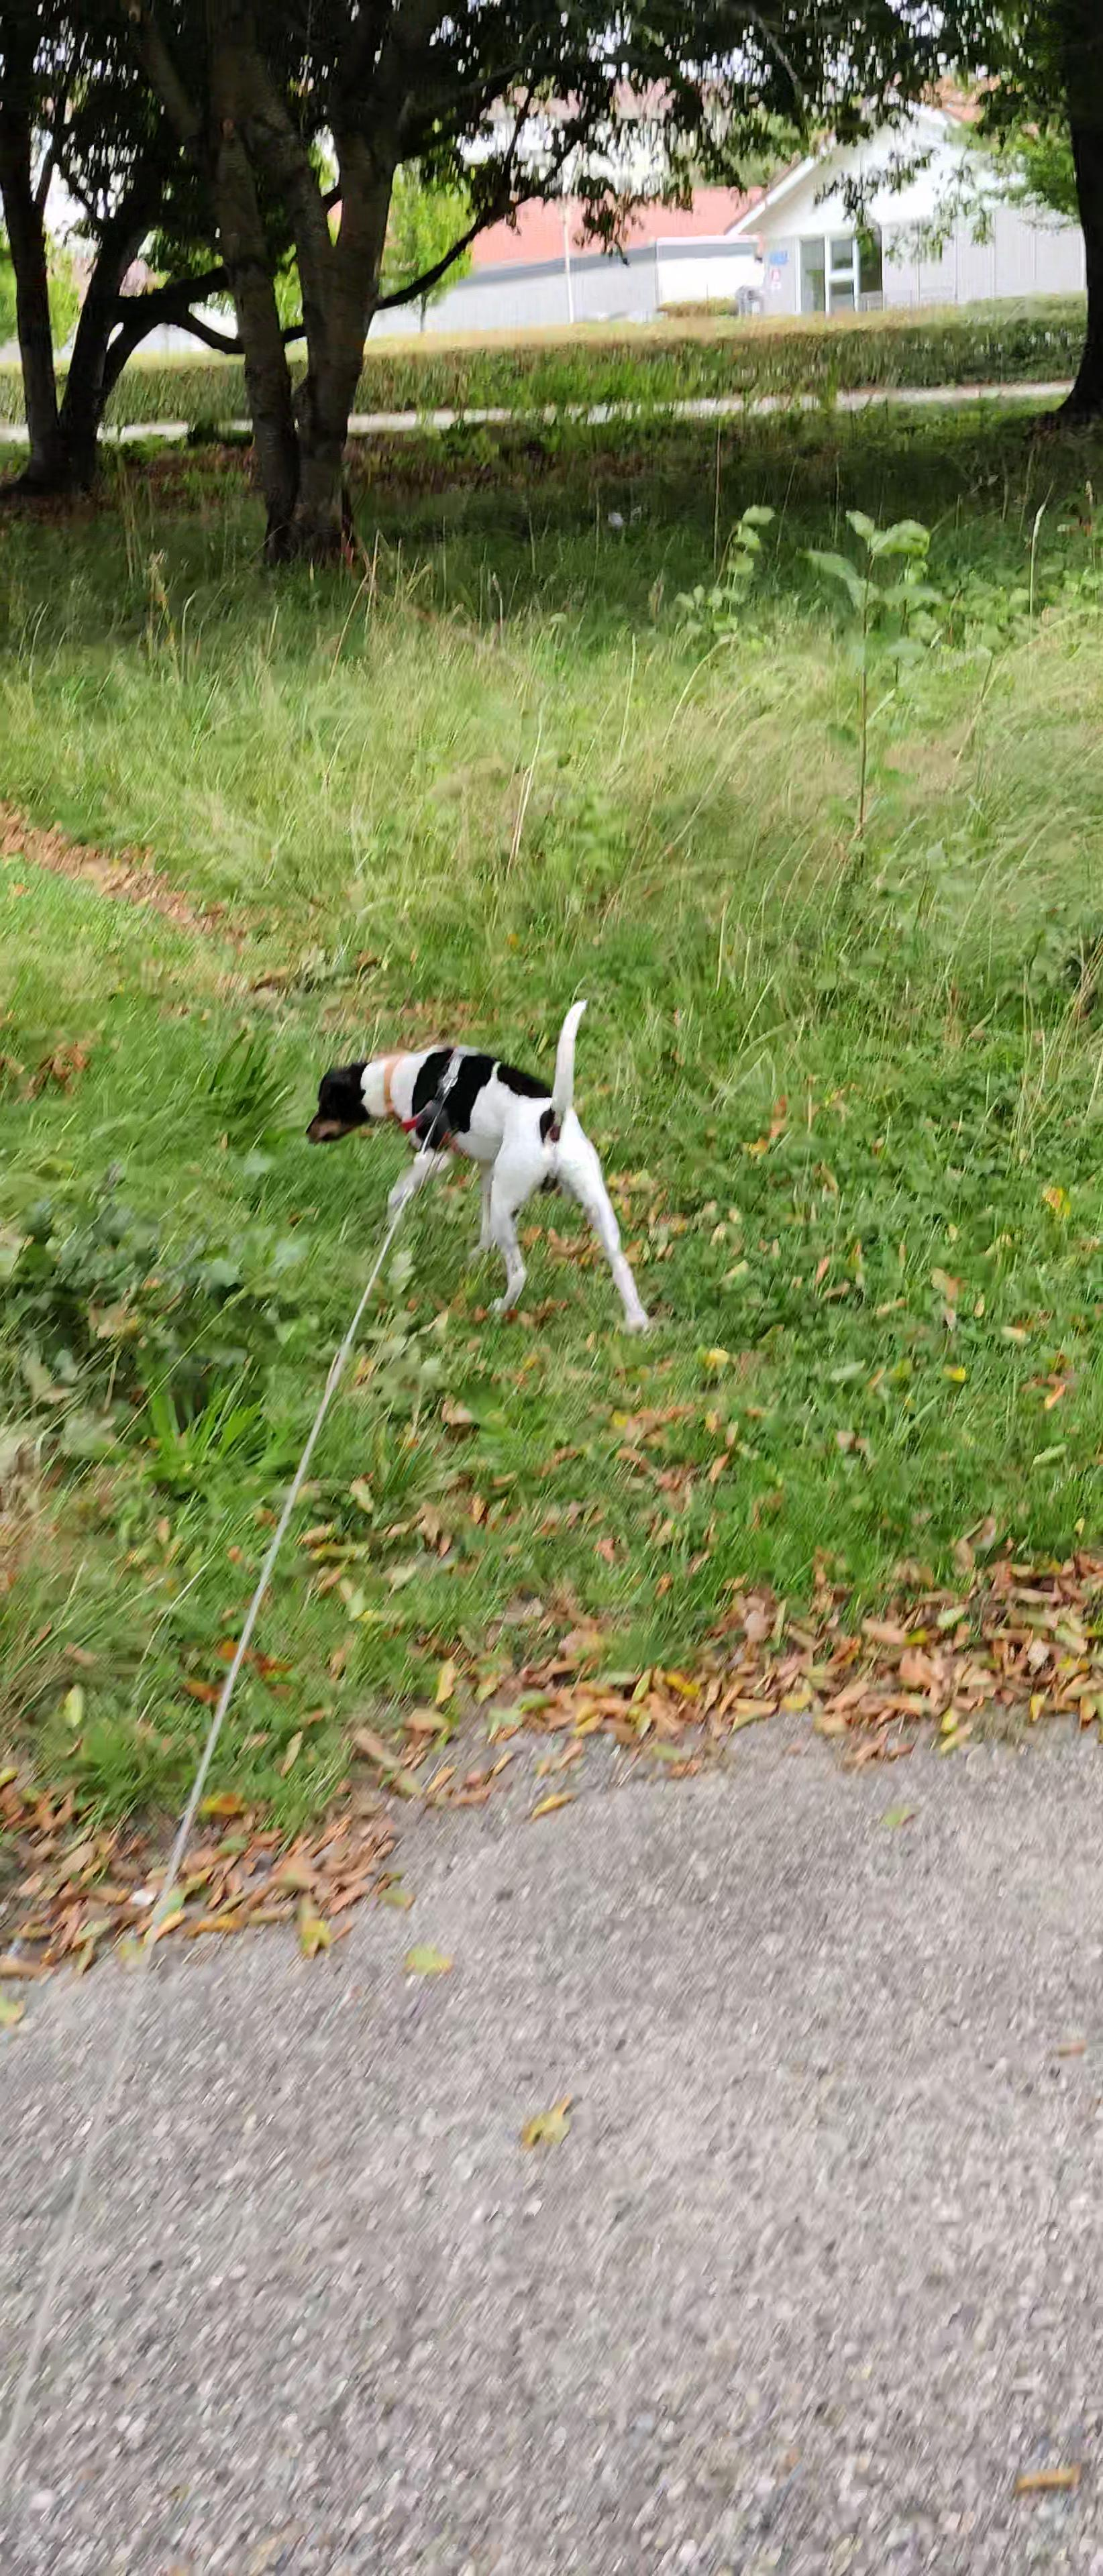Dog: (302, 991, 654, 1341)
